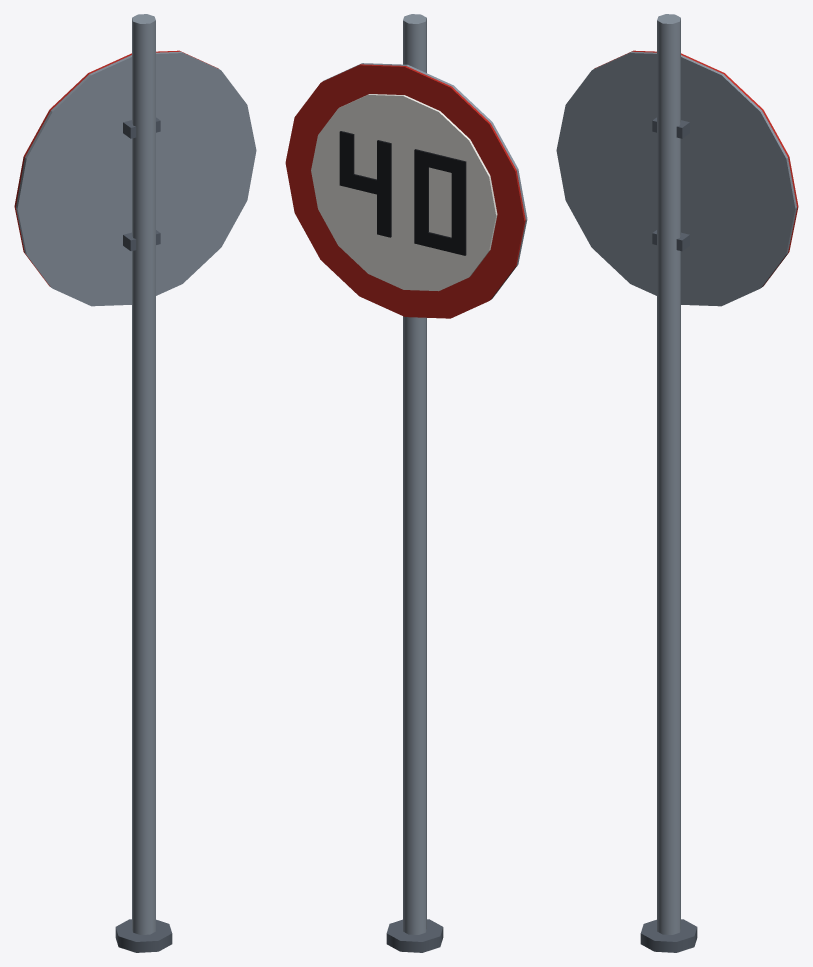
Rendered from sign_speed.glb.
3 renders of one model, left to right at view 1: azimuth 30°, elevation 25°; view 2: azimuth 150°, elevation 25°; view 3: azimuth 330°, elevation 25°, orthographic.
Visible parts, largest first — view 1: sign_speed; view 2: sign_speed; view 3: sign_speed.
Part boxes in pixels (bbox=[...]): sign_speed: bbox=[14, 14, 256, 952]; sign_speed: bbox=[285, 14, 527, 952]; sign_speed: bbox=[556, 14, 798, 952].
Size of the model in its own units: 0.8 by 2.95 by 0.17.
